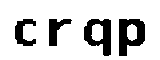c: (12, 17, 37, 49)
p: (116, 14, 147, 60)
q: (82, 14, 114, 60)
r: (44, 14, 72, 52)
